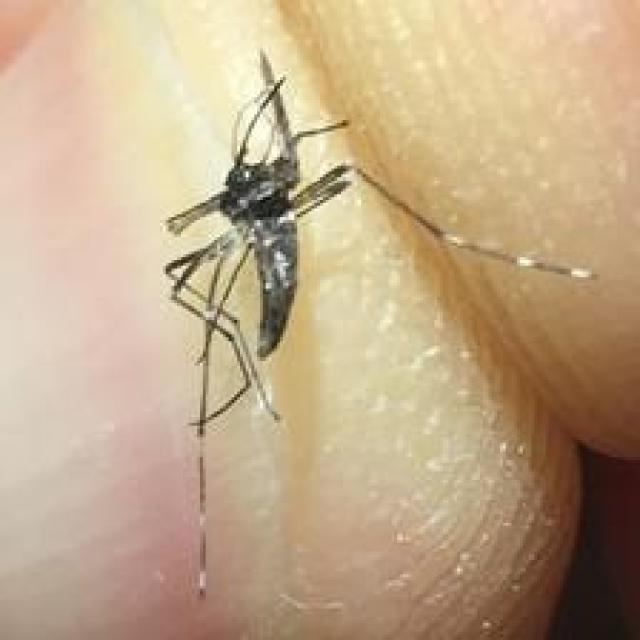Aedes albopictus: (160, 47, 597, 596)
